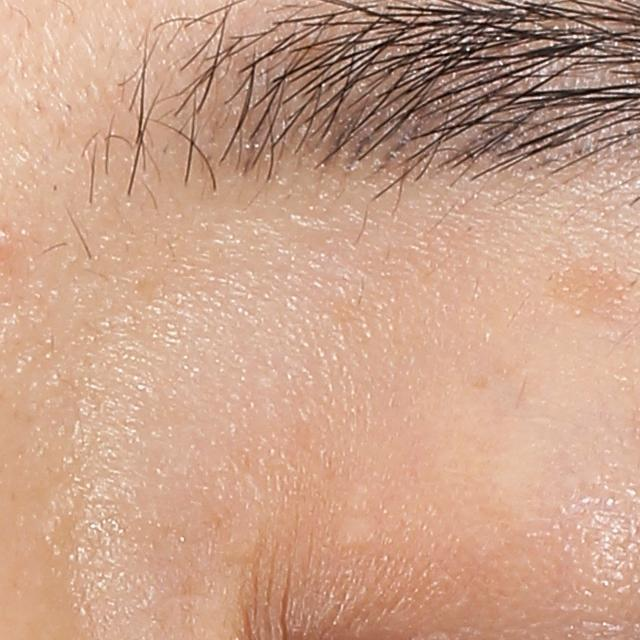melasma: (543, 257, 636, 320)
